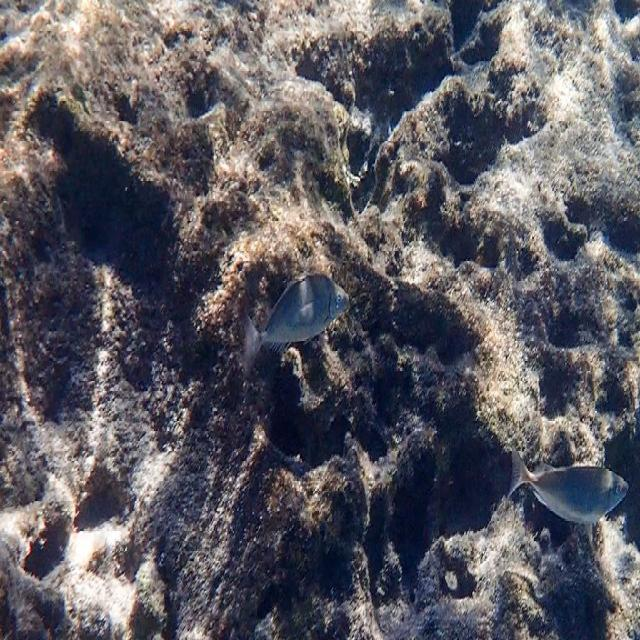Sokar Baligi: (237, 257, 356, 389), (501, 439, 632, 537)
